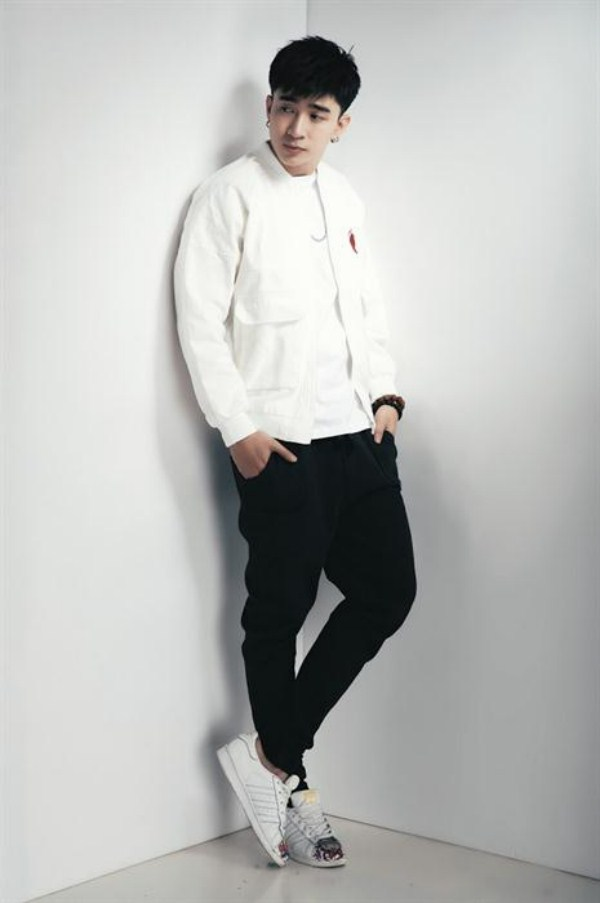person: (171, 38, 422, 866)
